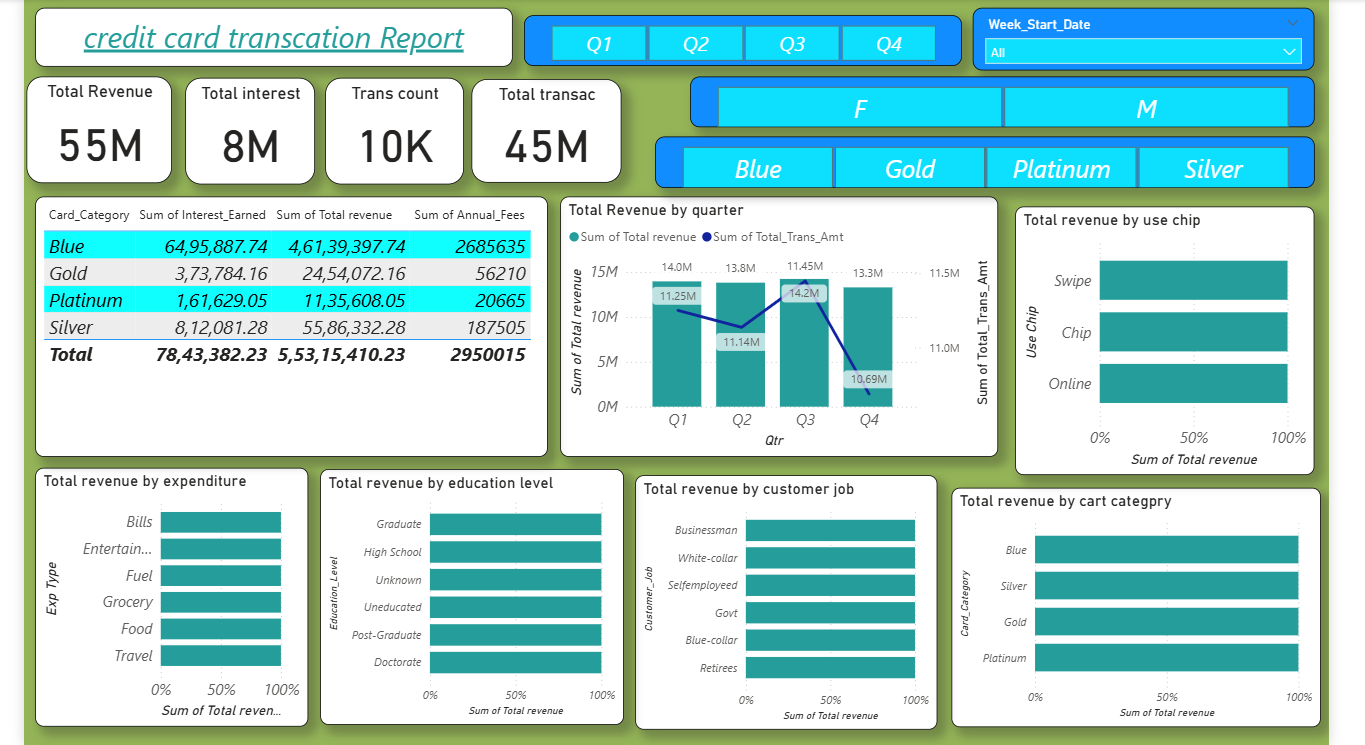

The page's visual inventory and layout, read from the dashboard file:
{"tool":"powerbi","page":{"name":"Page 1","canvas":[1400,800],"ordinal":0},"visuals":[{"type":"textbox","box":[12,9,511.8,63],"z":0},{"type":"card","title":"Total interest","fields":{"Values":["Sum(credit_card (1).Interest_Earned)"]},"box":[172.6,84,139.6,114.1],"z":1000},{"type":"card","title":"Trans count","fields":{"Values":["CountNonNull(credit_card (1).Interest_Earned)"]},"box":[322.7,84,148.6,114.1],"z":2000},{"type":"card","title":"Total Revenue","fields":{"Values":["Sum(credit_card (1).Total revenue)"]},"box":[3,82.5,156.1,114.1],"z":3000},{"type":"card","title":"Total transac","fields":{"Values":["Sum(credit_card (1).Total_Trans_Amt)"]},"box":[480.3,85.5,160.6,111.1],"z":4000},{"type":"slicer","fields":{"Values":["credit_card (1).Qtr"]},"box":[535.8,18,469.8,54],"z":5000},{"type":"lineStackedColumnComboChart","title":"Total Revenue by quarter","fields":{"Category":["credit_card (1).Qtr"],"Y":["Sum(credit_card (1).Total revenue)"],"Y2":["Sum(credit_card (1).Total_Trans_Amt)"]},"box":[574.8,211.6,469.8,279.2],"z":6000},{"type":"hundredPercentStackedBarChart","title":"Total revenue by cart categpry","fields":{"Y":["Sum(credit_card (1).Total revenue)"],"Category":["credit_card (1).Card_Category"]},"box":[995.1,523.8,396.2,256.6],"z":7000},{"type":"hundredPercentStackedBarChart","title":"Total revenue by use chip","fields":{"Y":["Sum(credit_card (1).Total revenue)"],"Category":["credit_card (1).Use Chip"]},"box":[1062.6,222.1,321.2,288.2],"z":8000},{"type":"hundredPercentStackedBarChart","title":"Total revenue by expenditure","fields":{"Y":["Sum(credit_card (1).Total revenue)"],"Category":["credit_card (1).Exp Type"]},"box":[12,502.8,292.7,277.7],"z":9000},{"type":"hundredPercentStackedBarChart","title":"Total revenue by customer job","fields":{"Y":["Sum(credit_card (1).Total revenue)"],"Category":["customer (1).Customer_Job"]},"box":[655.9,510.3,324.2,273.2],"z":10000},{"type":"hundredPercentStackedBarChart","title":"Total revenue by education level","fields":{"Y":["Sum(credit_card (1).Total revenue)"],"Category":["customer (1).Education_Level"]},"box":[318.2,504.3,325.7,274.7],"z":11000},{"type":"tableEx","fields":{"Values":["credit_card (1).Card_Category","Sum(credit_card (1).Interest_Earned)","Sum(credit_card (1).Total revenue)","Sum(credit_card (1).Annual_Fees)"]},"box":[12,211.6,549.3,279.2],"z":12000},{"type":"slicer","fields":{"Values":["credit_card (1).Week_Start_Date"]},"box":[1017.6,9,366.2,67.5],"z":13000},{"type":"slicer","fields":{"Values":["customer (1).Gender"]},"box":[714.4,82.5,669.4,54],"z":14000},{"type":"slicer","fields":{"Values":["credit_card (1).Card_Category"]},"box":[676.9,147.1,706.9,55.5],"z":15000}]}

Visuals, with their boxes in screenshot pixels (x1, y1, x2, y2):
textbox: pyautogui.locateOnScreen(39, 12, 510, 70)
"Total interest" card: pyautogui.locateOnScreen(187, 81, 316, 186)
"Trans count" card: pyautogui.locateOnScreen(325, 81, 462, 186)
"Total Revenue" card: pyautogui.locateOnScreen(31, 79, 175, 184)
"Total transac" card: pyautogui.locateOnScreen(470, 82, 618, 184)
slicer - credit_card (1).Qtr: pyautogui.locateOnScreen(521, 20, 954, 70)
"Total Revenue by quarter" lineStackedColumnComboChart: pyautogui.locateOnScreen(557, 198, 990, 455)
"Total revenue by cart categpry" hundredPercentStackedBarChart: pyautogui.locateOnScreen(944, 486, 1309, 722)
"Total revenue by use chip" hundredPercentStackedBarChart: pyautogui.locateOnScreen(1006, 208, 1302, 473)
"Total revenue by expenditure" hundredPercentStackedBarChart: pyautogui.locateOnScreen(39, 466, 309, 722)
"Total revenue by customer job" hundredPercentStackedBarChart: pyautogui.locateOnScreen(632, 473, 930, 725)
"Total revenue by education level" hundredPercentStackedBarChart: pyautogui.locateOnScreen(321, 468, 621, 720)
tableEx - credit_card (1).Card_Category x Sum(credit_card (1).Interest_Earned): pyautogui.locateOnScreen(39, 198, 545, 455)
slicer - credit_card (1).Week_Start_Date: pyautogui.locateOnScreen(965, 12, 1302, 74)
slicer - customer (1).Gender: pyautogui.locateOnScreen(686, 79, 1302, 129)
slicer - credit_card (1).Card_Category: pyautogui.locateOnScreen(651, 139, 1302, 190)
